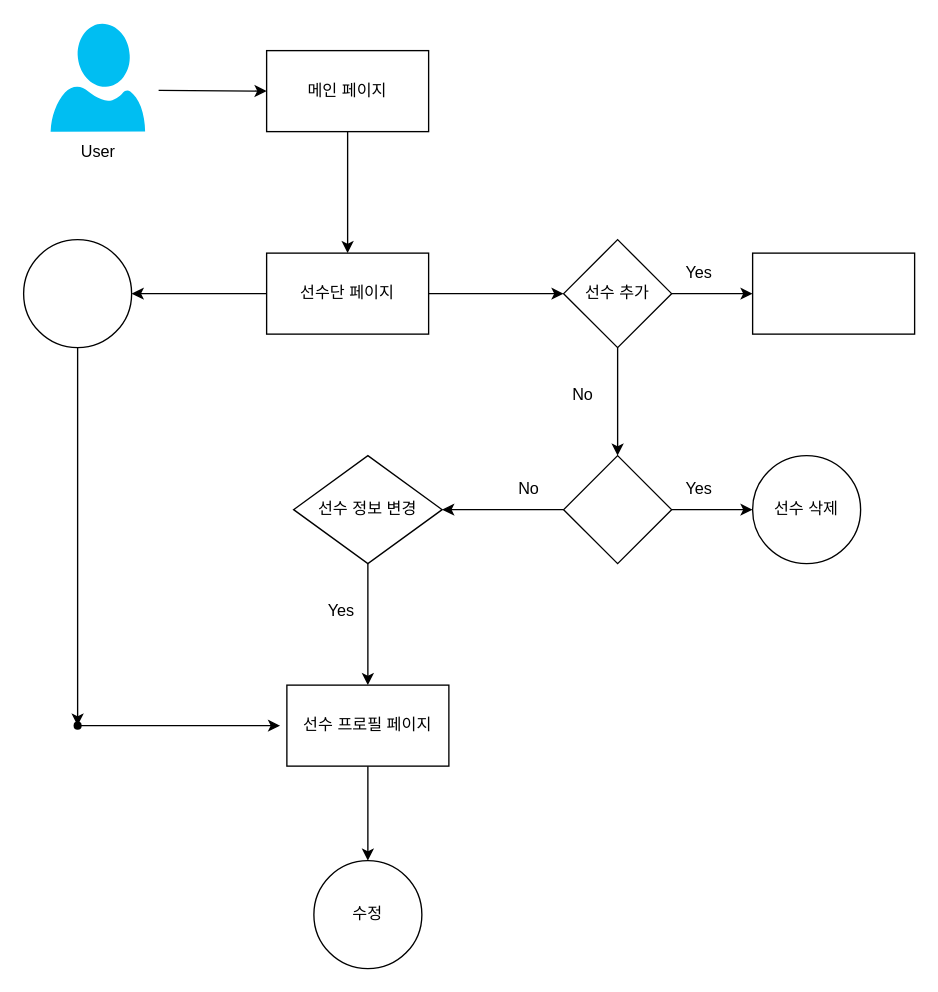
This 938x992 diagram has some shape labels left out. Here are the shapes that lost their labels. From the top down, the box of each, then its label:
(22, 238, 132, 348): 선수 검색
(751, 252, 915, 334): 선수 추가 페이지
(562, 454, 672, 564): 선수 제거
